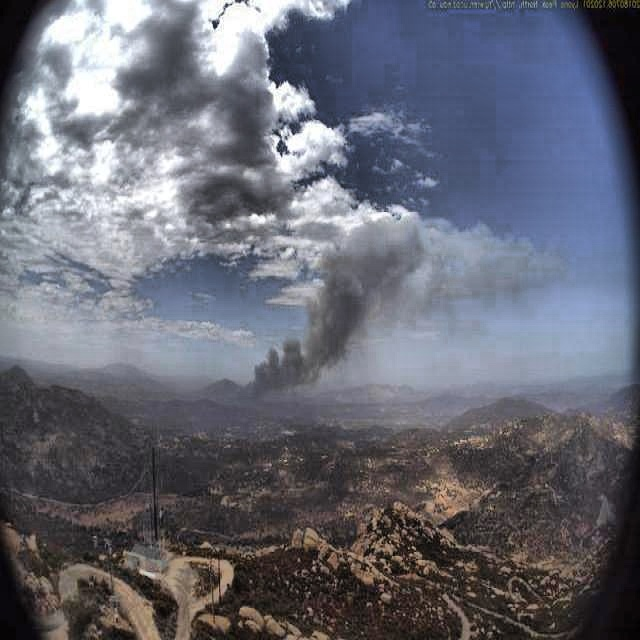smoke: (222, 206, 501, 418)
